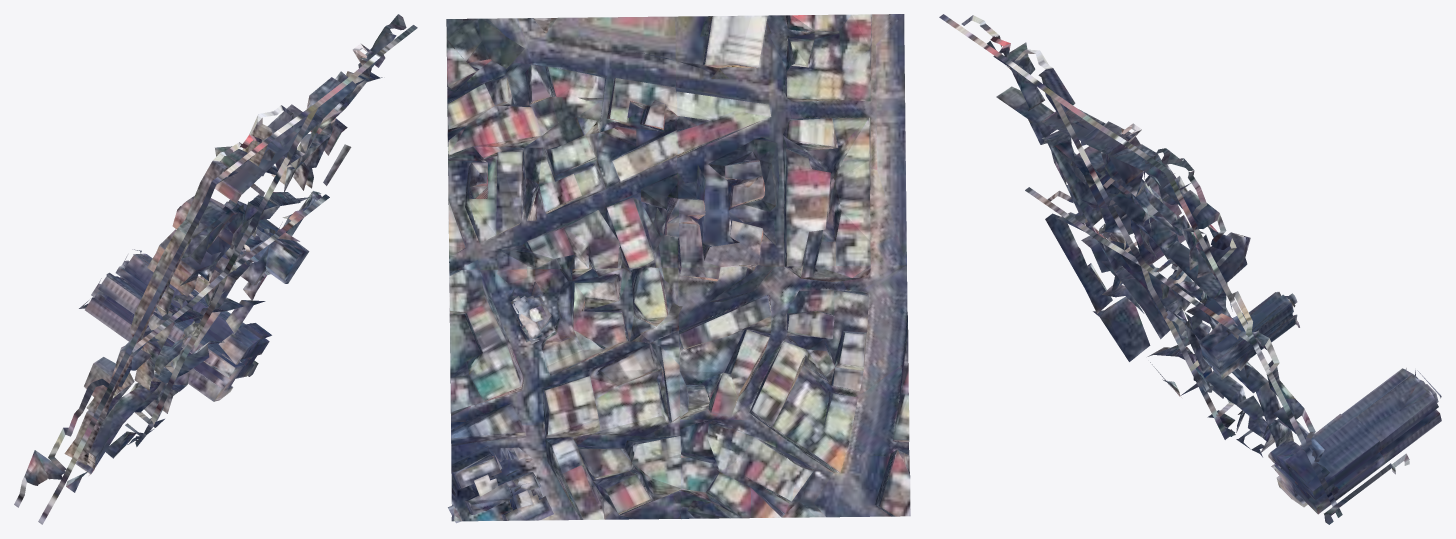
The picture shows the model from 3 angles, left to right: view 1: azimuth 30°, elevation 25°; view 2: azimuth 150°, elevation 25°; view 3: azimuth 270°, elevation 25°; orthographic projection. The views are drawn at different scales.
Bounding box in the file's own units: 315 × 287 × 322.
Materials: 2 (2 with a texture image).
